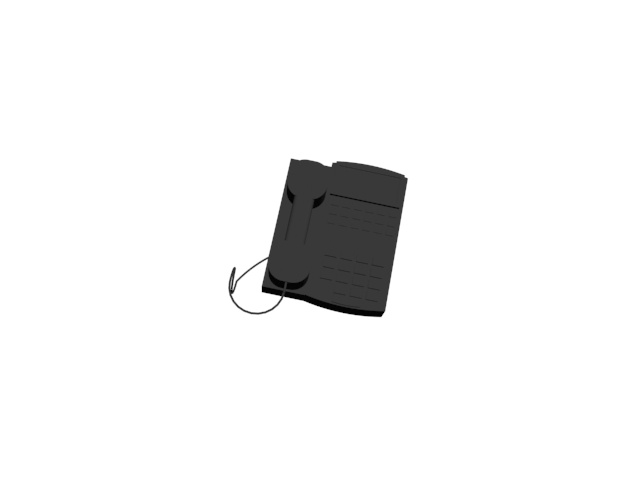phone: (225, 153, 416, 320)
